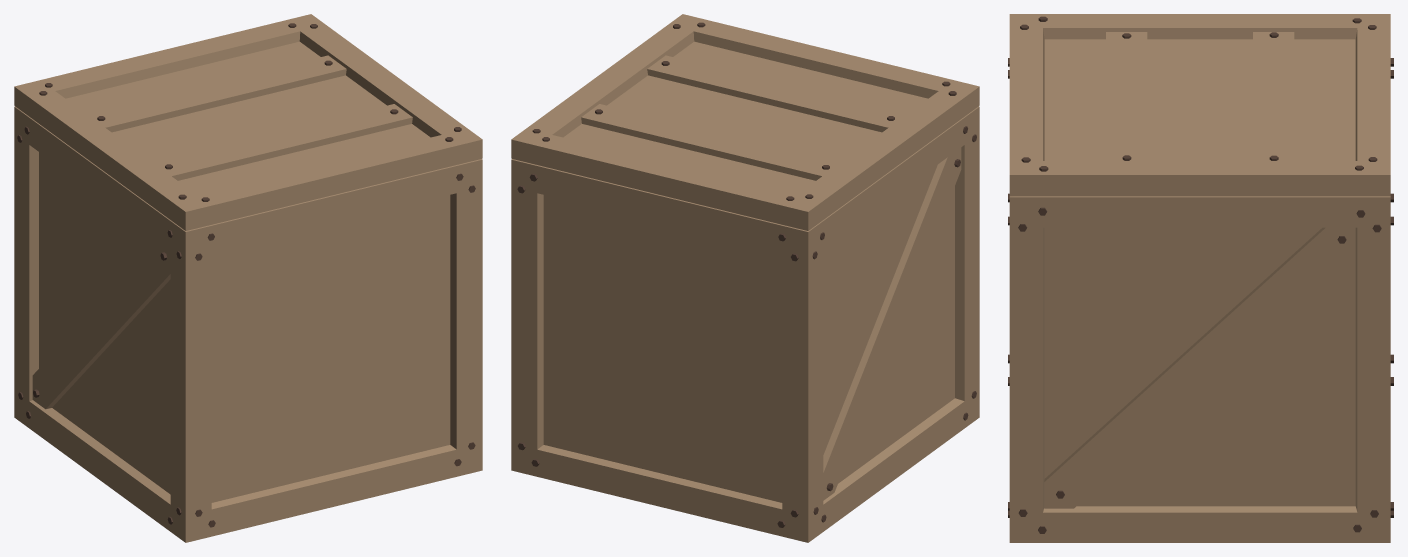
Rendered from Crate.fbx.
3 views of the same model, side by side, from view 1: azimuth 30°, elevation 25°; view 2: azimuth 150°, elevation 25°; view 3: azimuth 270°, elevation 25° (orthographic). The views are drawn at different scales.
Visible parts, largest first — view 1: Crate; view 2: Crate; view 3: Crate.
Part boxes in pixels (box(x1,y1,x2,y2)): Crate: box(14, 14, 482, 542); Crate: box(511, 14, 979, 542); Crate: box(1008, 14, 1393, 542).
Bounding box in the file's own units: 131 × 140 × 131.
